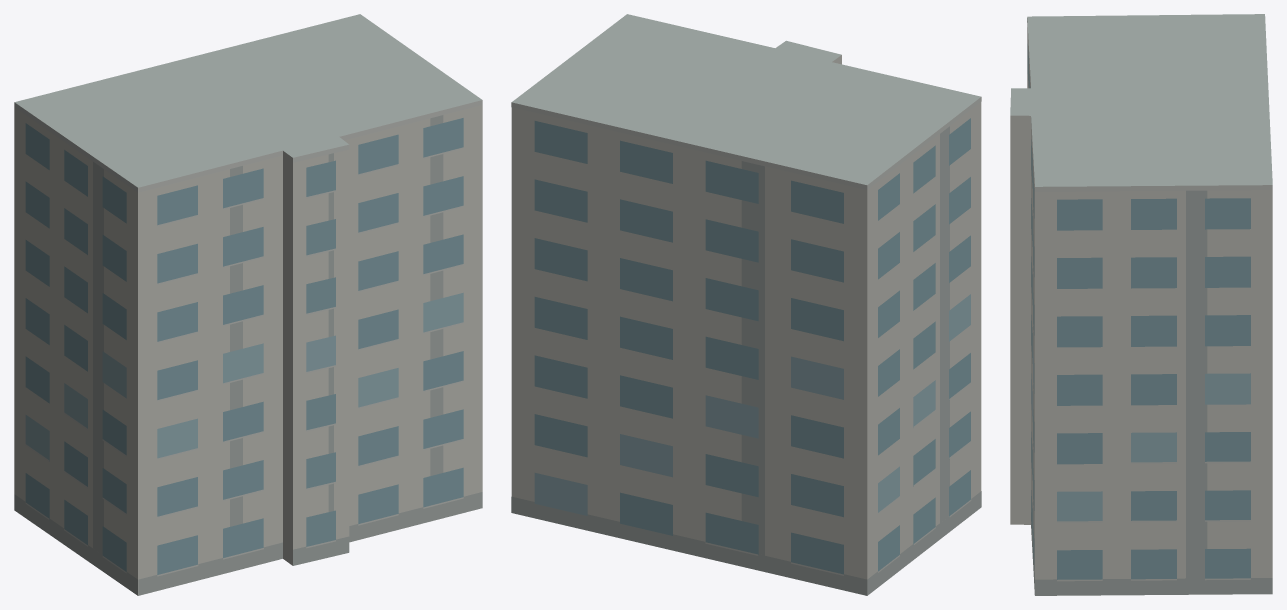
File: survey-upis-32872127.glb
3 views of the same model, side by side, from view 1: azimuth 30°, elevation 25°; view 2: azimuth 150°, elevation 25°; view 3: azimuth 270°, elevation 25° (orthographic).
Visible parts, largest first — view 1: survey-upis-32872127.tmp; view 2: survey-upis-32872127.tmp; view 3: survey-upis-32872127.tmp.
Part boxes in pixels (x1,y1,x2,y2): survey-upis-32872127.tmp: [14, 14, 482, 595]; survey-upis-32872127.tmp: [511, 14, 981, 595]; survey-upis-32872127.tmp: [1010, 14, 1272, 595].
Bounding box in the file's own units: 18.32 × 20.2 × 11.77.
